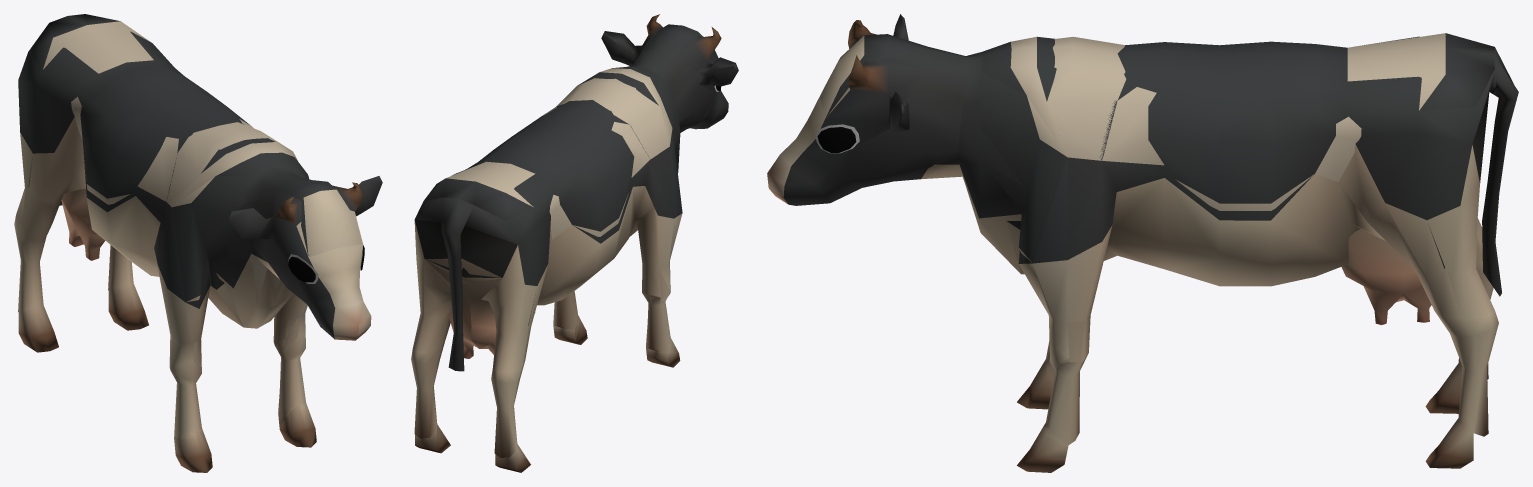
Rendered from cow.glb.
The picture shows the model from 3 angles, left to right: view 1: azimuth 30°, elevation 25°; view 2: azimuth 150°, elevation 25°; view 3: azimuth 270°, elevation 25°; orthographic projection. The views are drawn at different scales.
Visible parts, largest first — view 1: alt582, alt583; view 2: alt582, alt583; view 3: alt582, alt583.
Boxes of the visible parts, x1=… form: alt582: x1=14, y1=31, x2=382, y2=472; alt583: x1=22, y1=14, x2=371, y2=459; alt582: x1=411, y1=14, x2=738, y2=472; alt583: x1=415, y1=24, x2=735, y2=365; alt582: x1=767, y1=14, x2=1518, y2=472; alt583: x1=767, y1=14, x2=1494, y2=464.
Size of the model in its own units: 0.6662 by 1.31 by 2.26.
